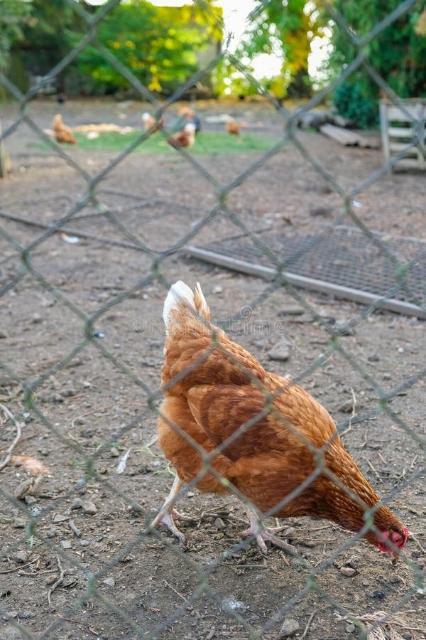Chicken: (153, 279, 406, 566)
